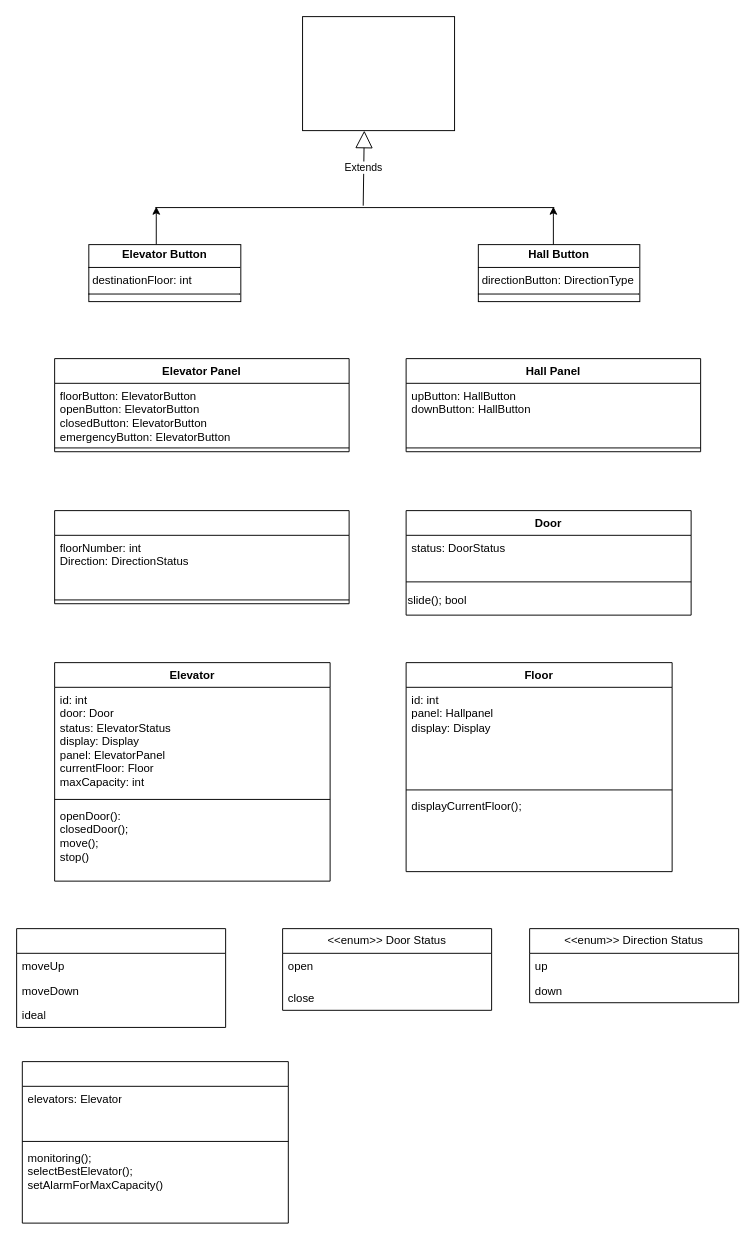
This 755x1243 diagram has some shape labels left out. The box of each missing label's shape, as (x1, y1, x2, y2) in pixels:
<<abstract>> Button status: bool press() isPressed(): (302, 16, 455, 131)
<<enum>> Elevator Status: (16, 928, 226, 1027)
Display: (54, 510, 349, 604)
Elevator System: (21, 1061, 288, 1223)
